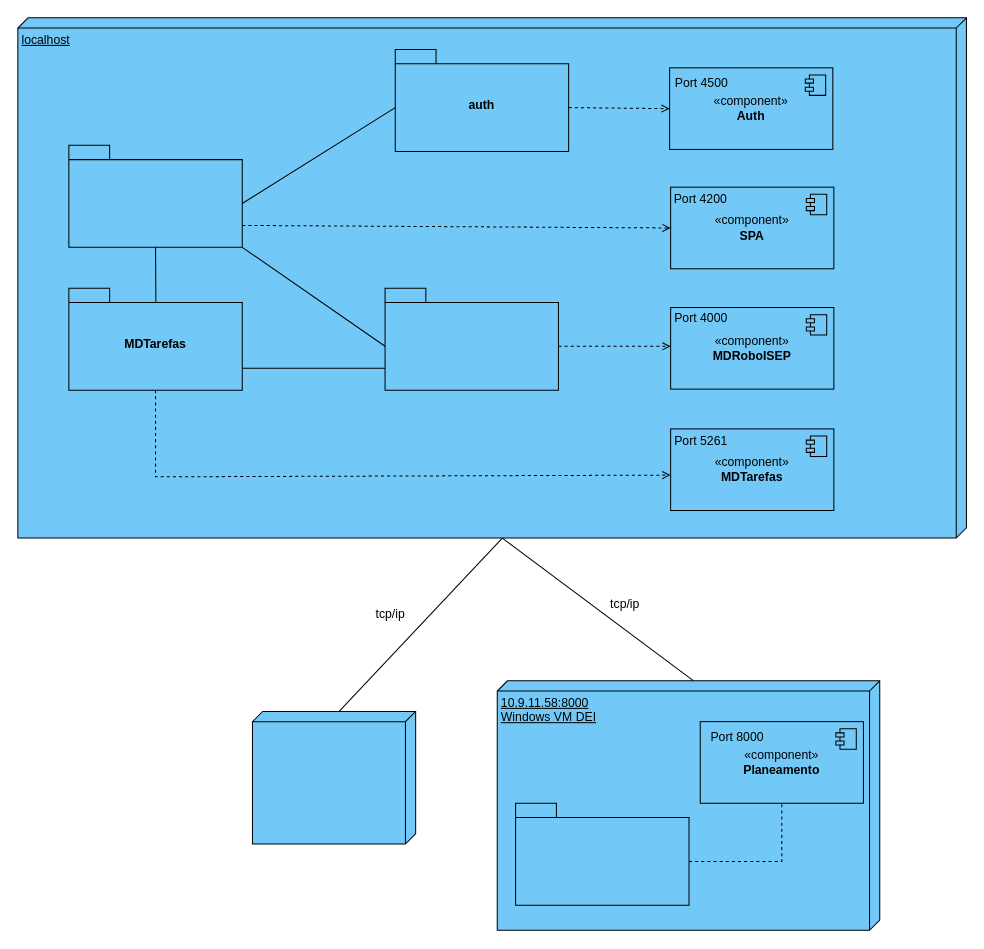
The diagram is 984 pixels wide and 949 high, and some of its shapes have lost their labels. The shapes that lost their labels are listed below. From the top down, each one's centre as x and y in pixels, then its label:
At [155,195]: "SPA".
At [471,338]: "MDRoboISEP".
At [333,777]: "Database Atlas MongoDB".
At [602,853]: "Planeamento".
